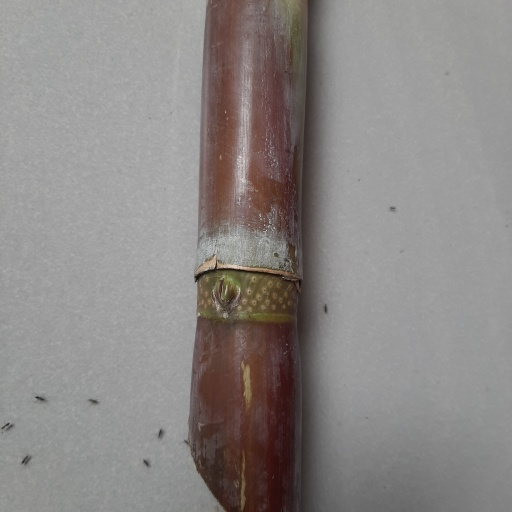Bud: (212, 278, 243, 314)
